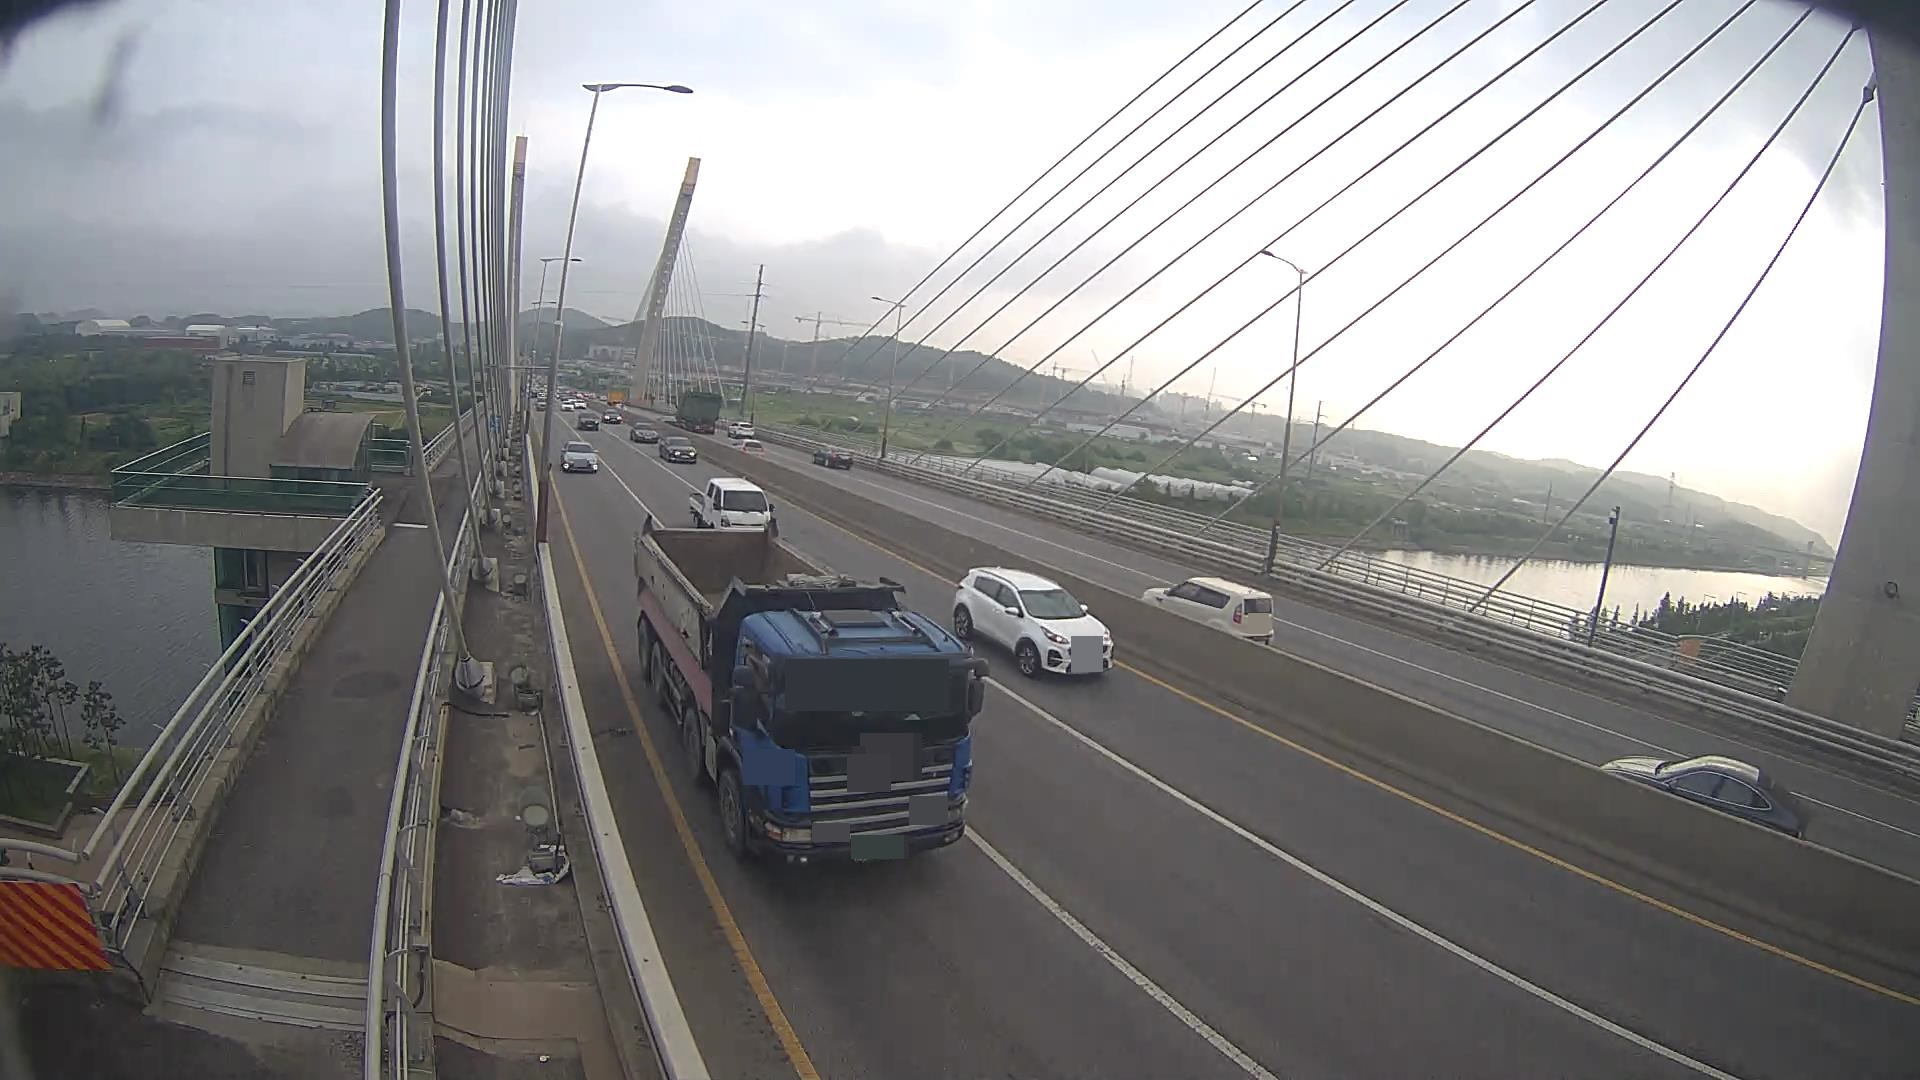정상차량: (634, 514, 989, 864)
